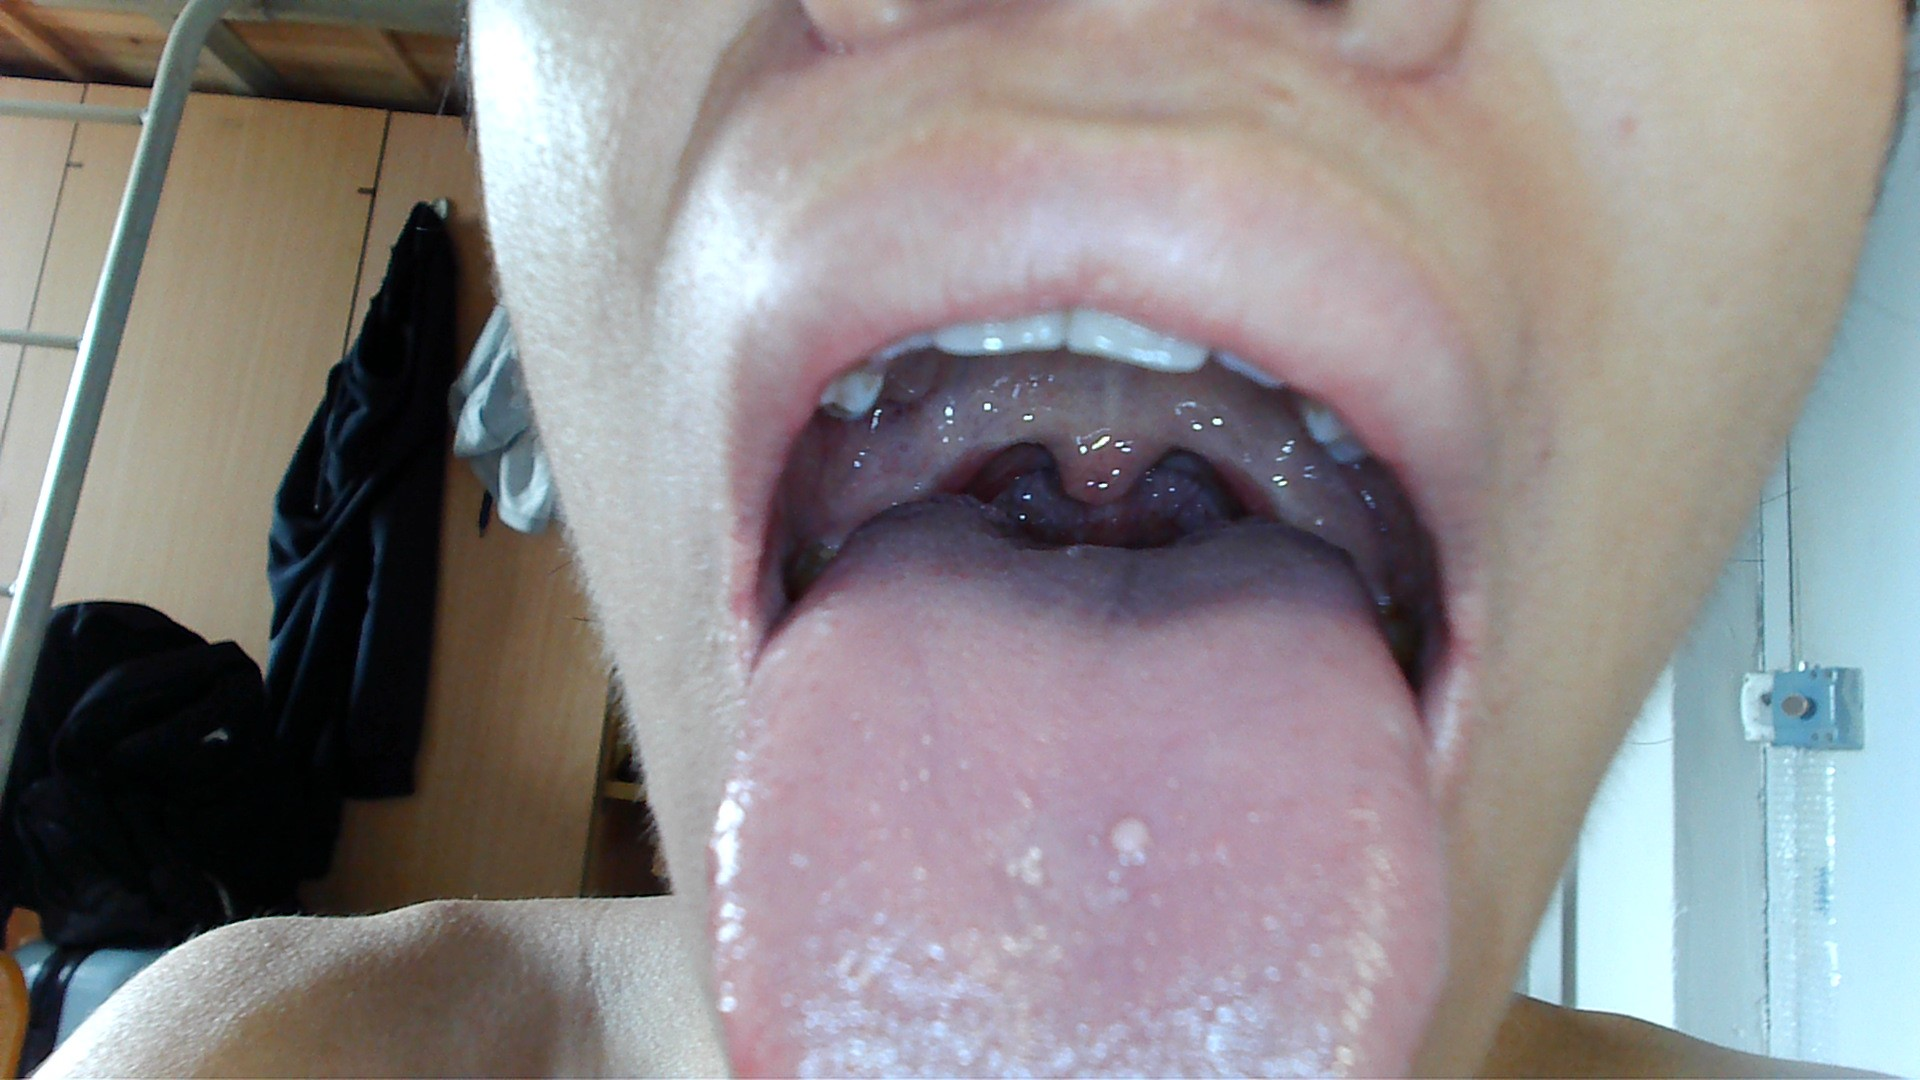throat: (1218, 404, 1290, 520), (910, 415, 986, 500)
